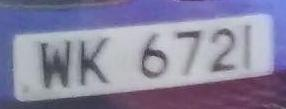1: (238, 20, 257, 72)
2: (205, 22, 238, 74)
6: (133, 29, 177, 86)
7: (172, 24, 205, 80)
K: (73, 34, 117, 93)
W: (34, 37, 77, 95)
